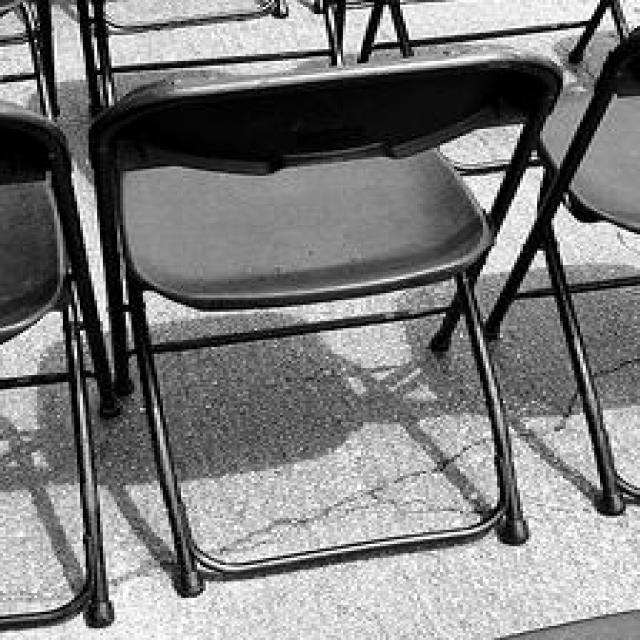chair: (85, 54, 566, 595)
